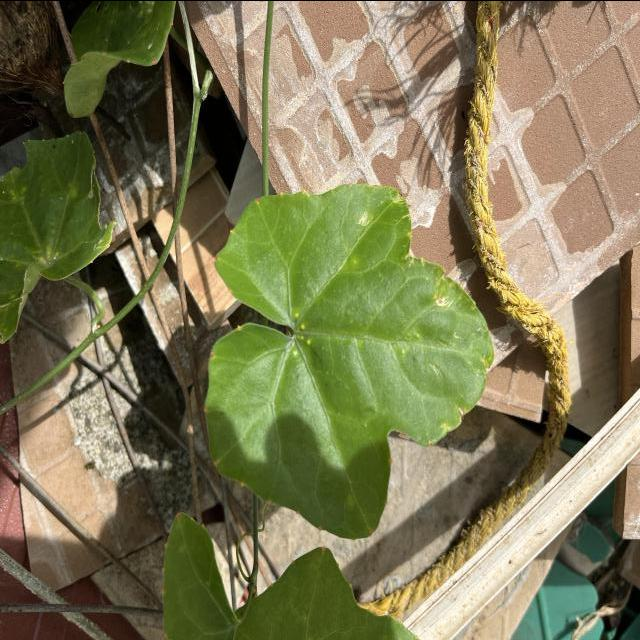Coccinia grandis: (199, 181, 497, 543)
